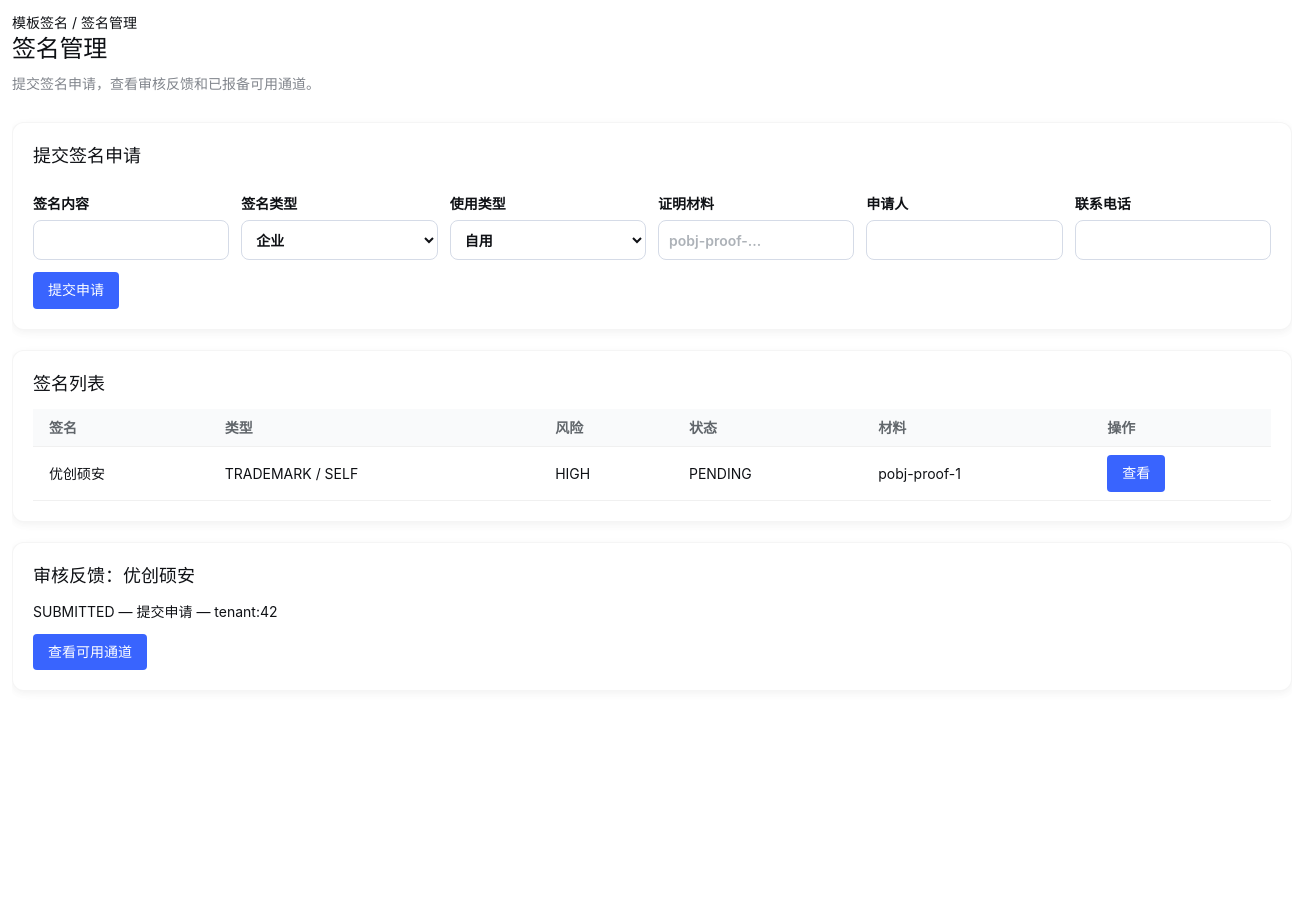
Phase 12 signature lifecycle UI › shows usable channels only from registered and eligible filing rows
Click the button with test id "tenant-signature-lifecycle-signatures-usable-channels". click: (90, 652)
box: [33,634,147,670]
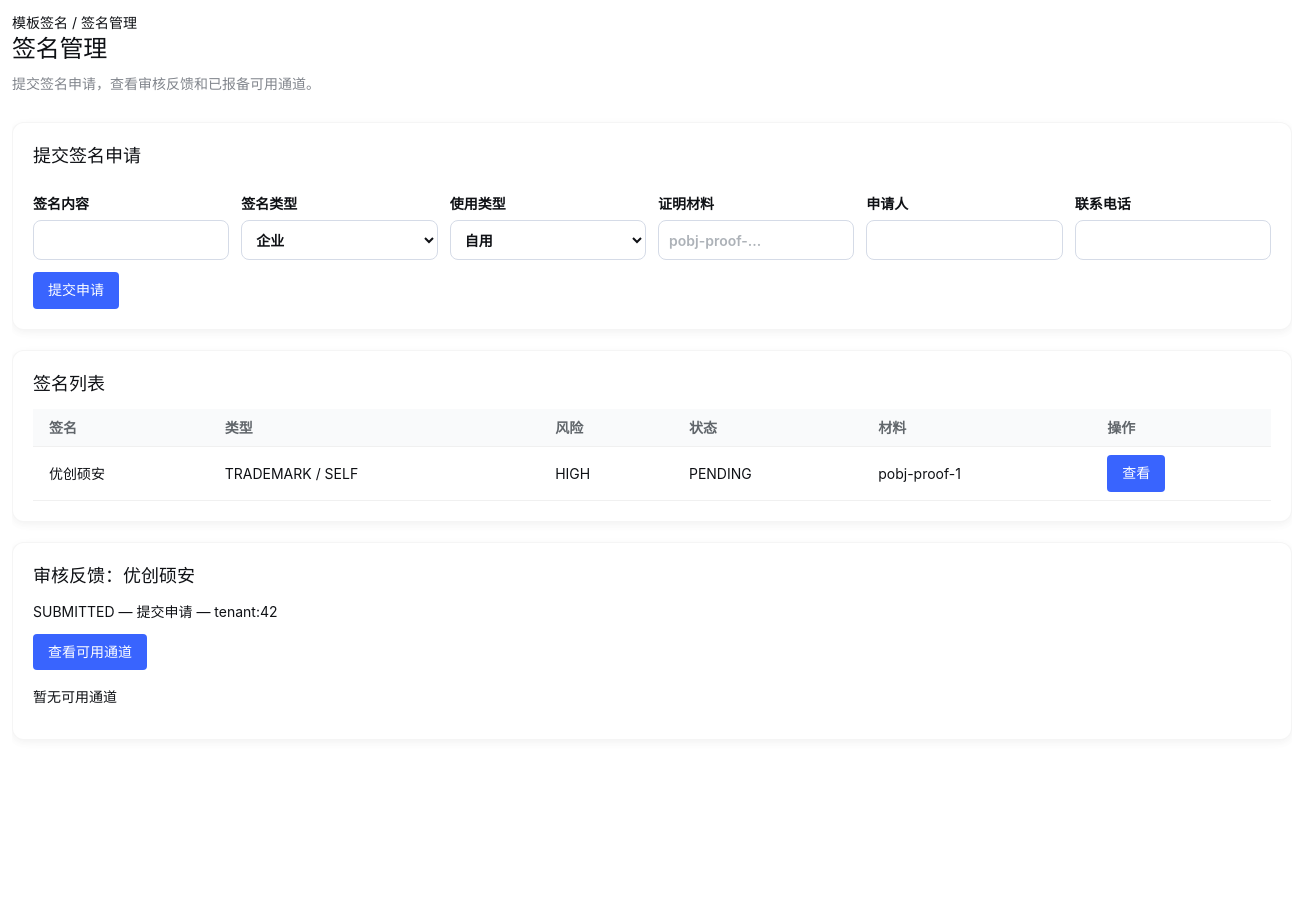
Result: the text "暂无可用通道" is shown at [33,688,117,705]
